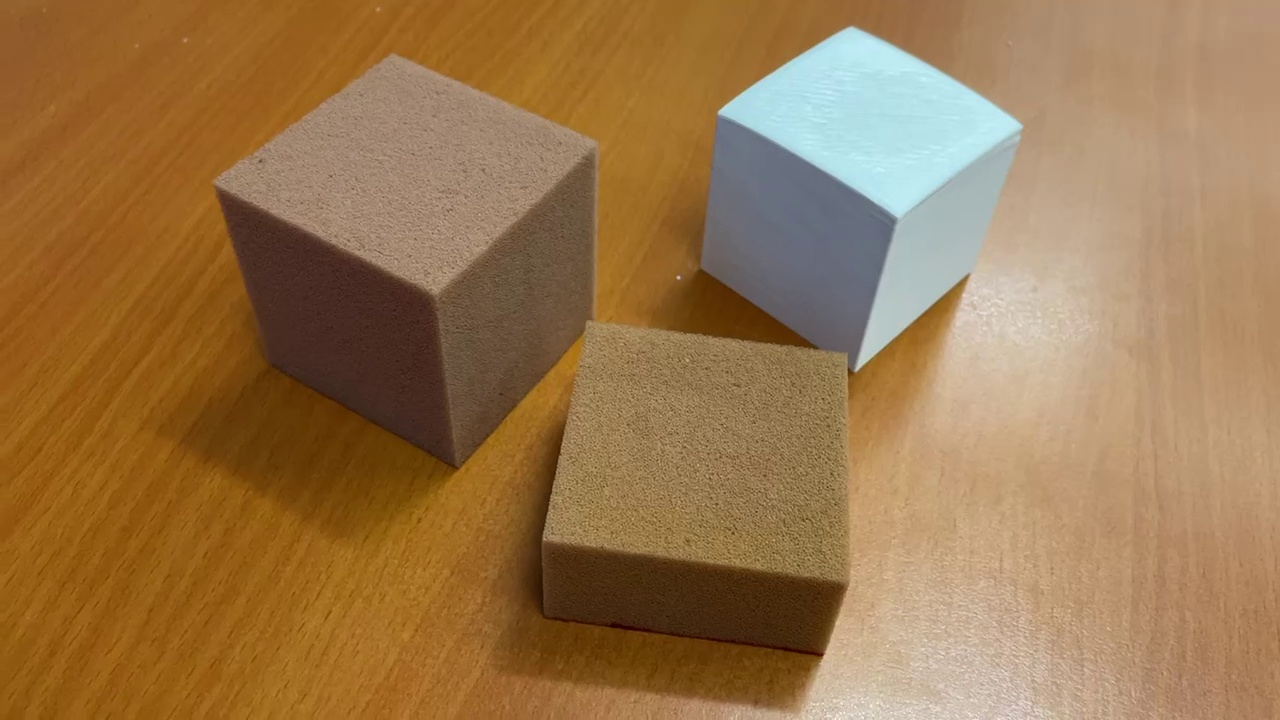Cube: (206, 45, 606, 474), (692, 20, 1025, 374)
Cube_short: (534, 316, 863, 666)
